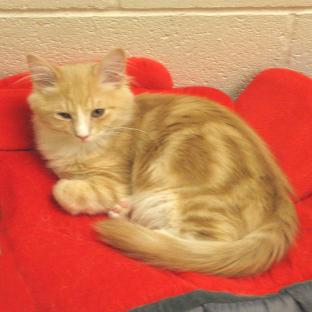Animal: (28, 48, 298, 276)
